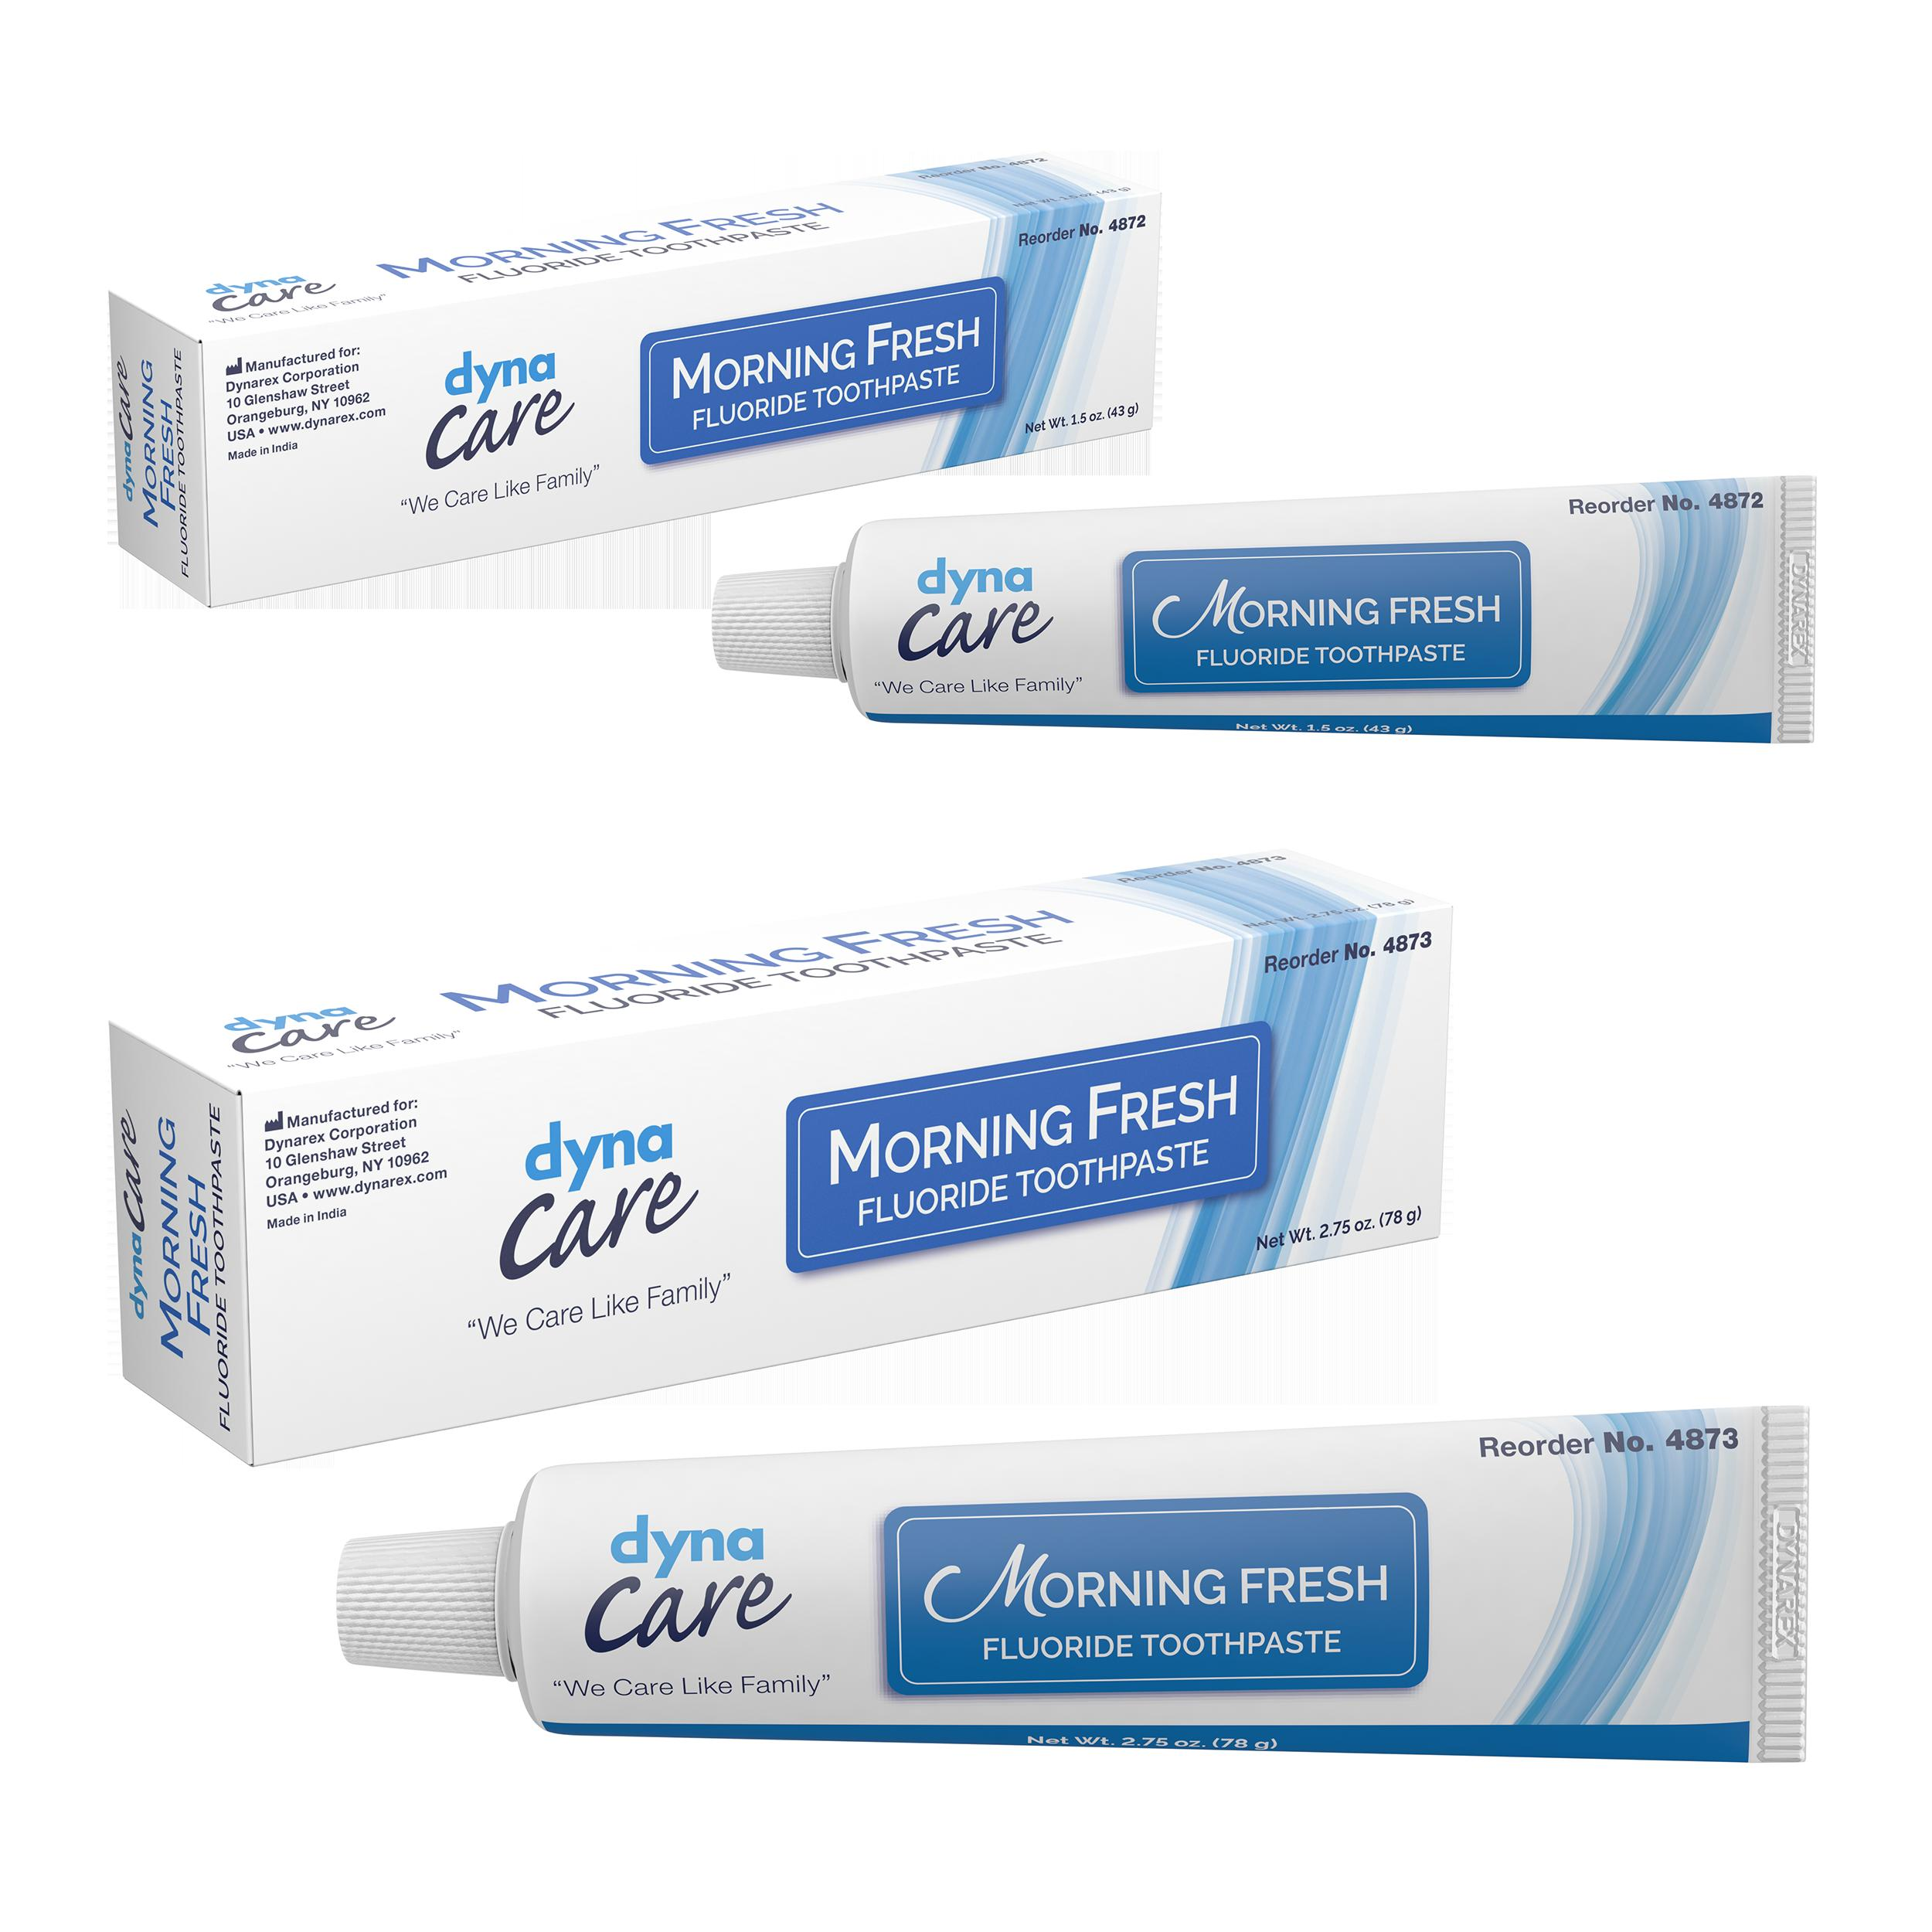toothpaste: (71, 840, 1523, 1467), (274, 1373, 1911, 1803), (80, 113, 1200, 625), (642, 423, 1891, 784)
